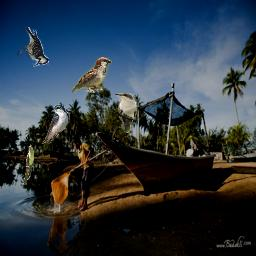Cuckoo: (115, 93, 137, 133), (23, 145, 34, 185)
Sparrow: (72, 57, 112, 93)
Swallow: (42, 104, 70, 144)
Woodpecker: (17, 27, 49, 67)
